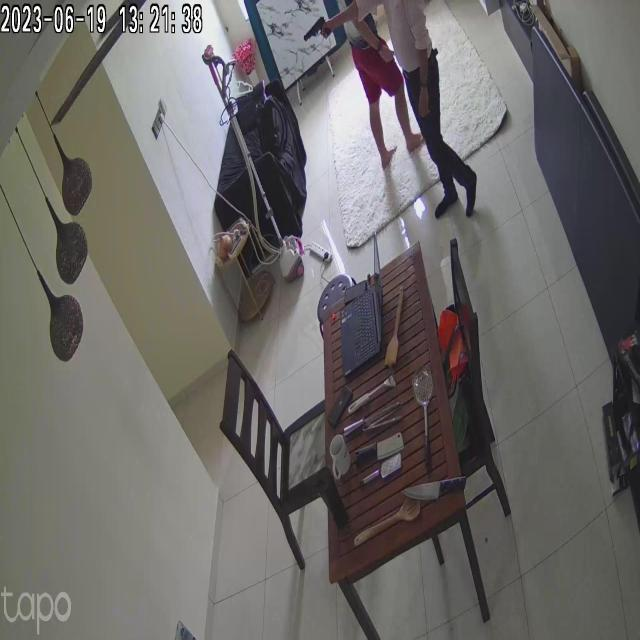Gun: (299, 12, 334, 52)
Knife: (393, 473, 474, 505)
